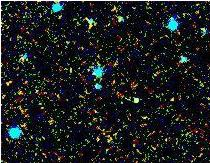star: (119, 88, 149, 118)
